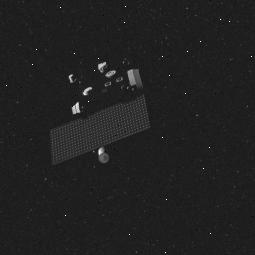proba_3_csc: (41, 43, 157, 171)
